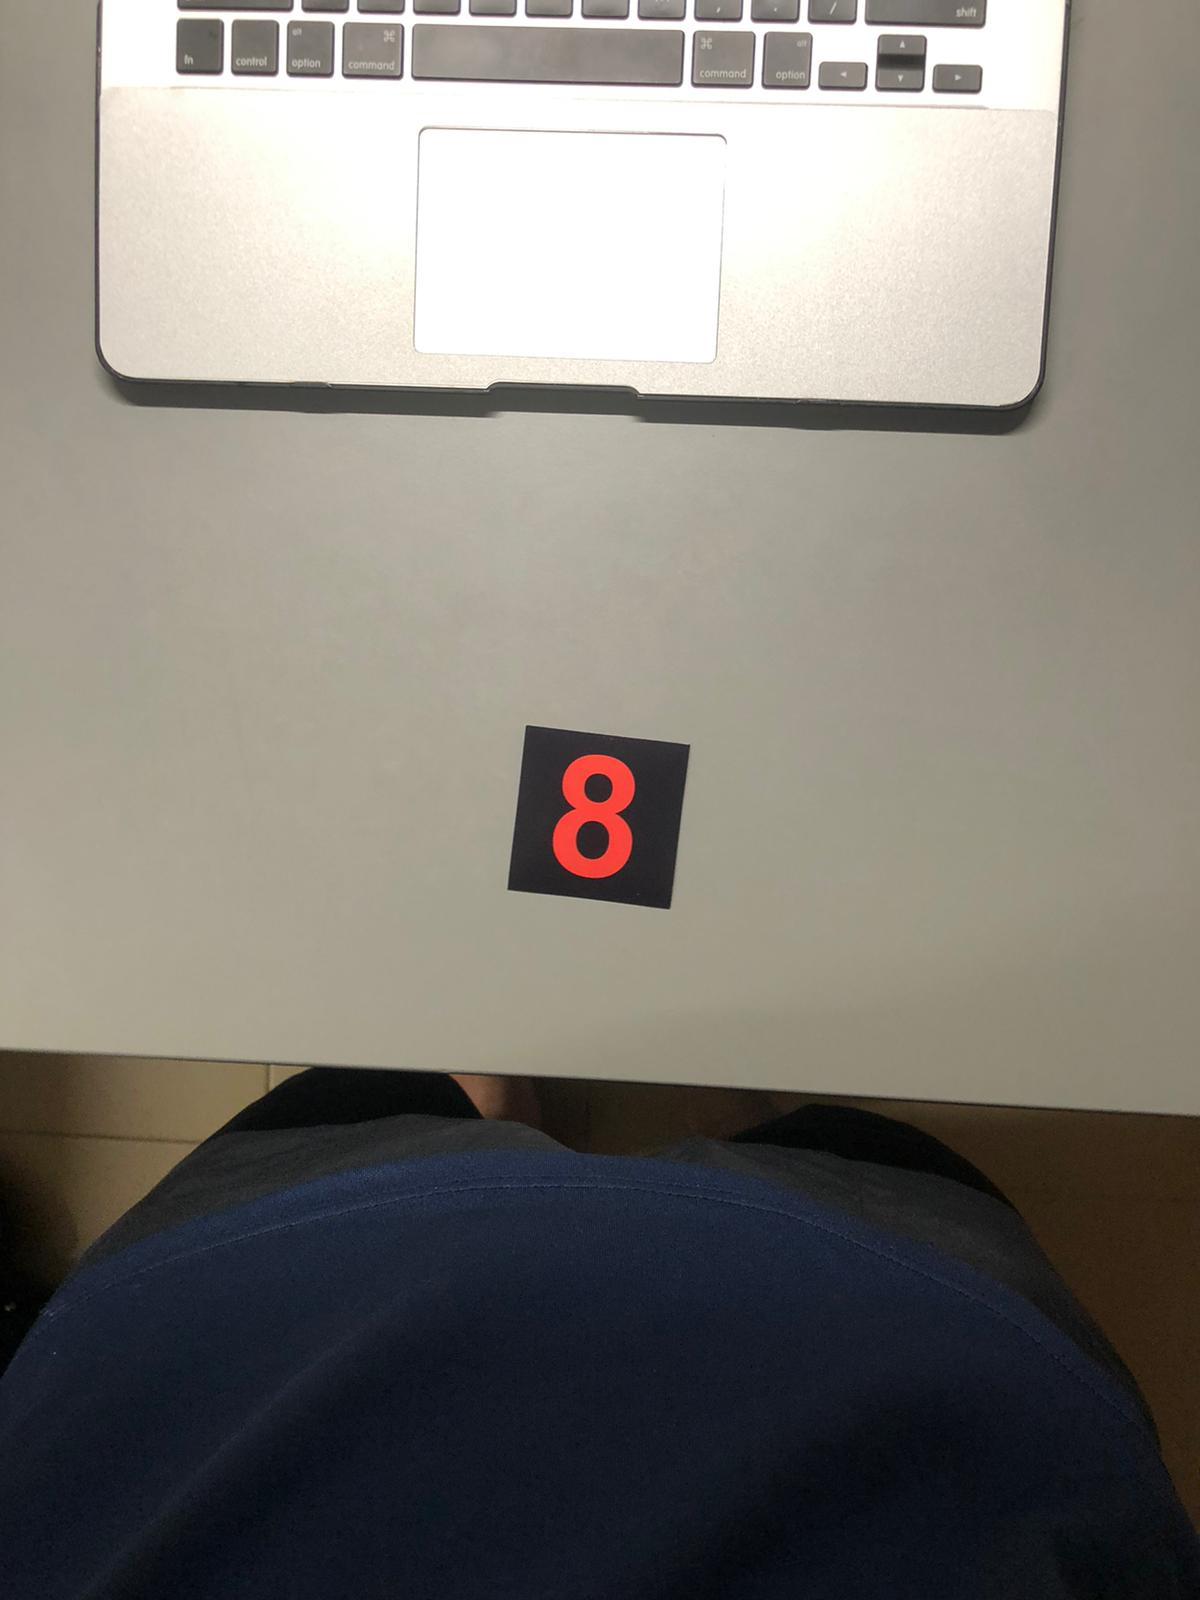Number 8: (511, 719, 691, 905)
